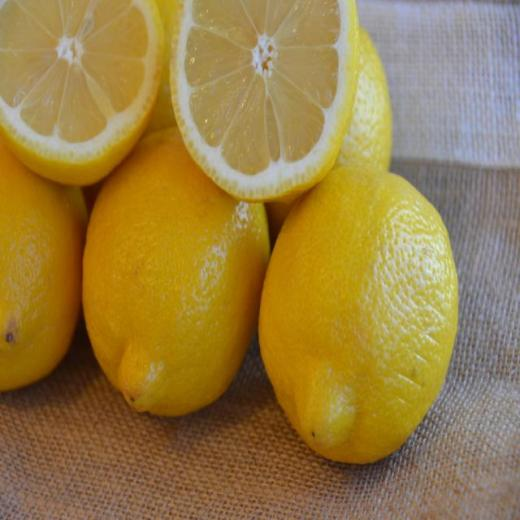Grape: (252, 151, 458, 470), (79, 126, 272, 416), (171, 0, 361, 206), (0, 0, 166, 187), (0, 135, 93, 391), (339, 28, 395, 167)
